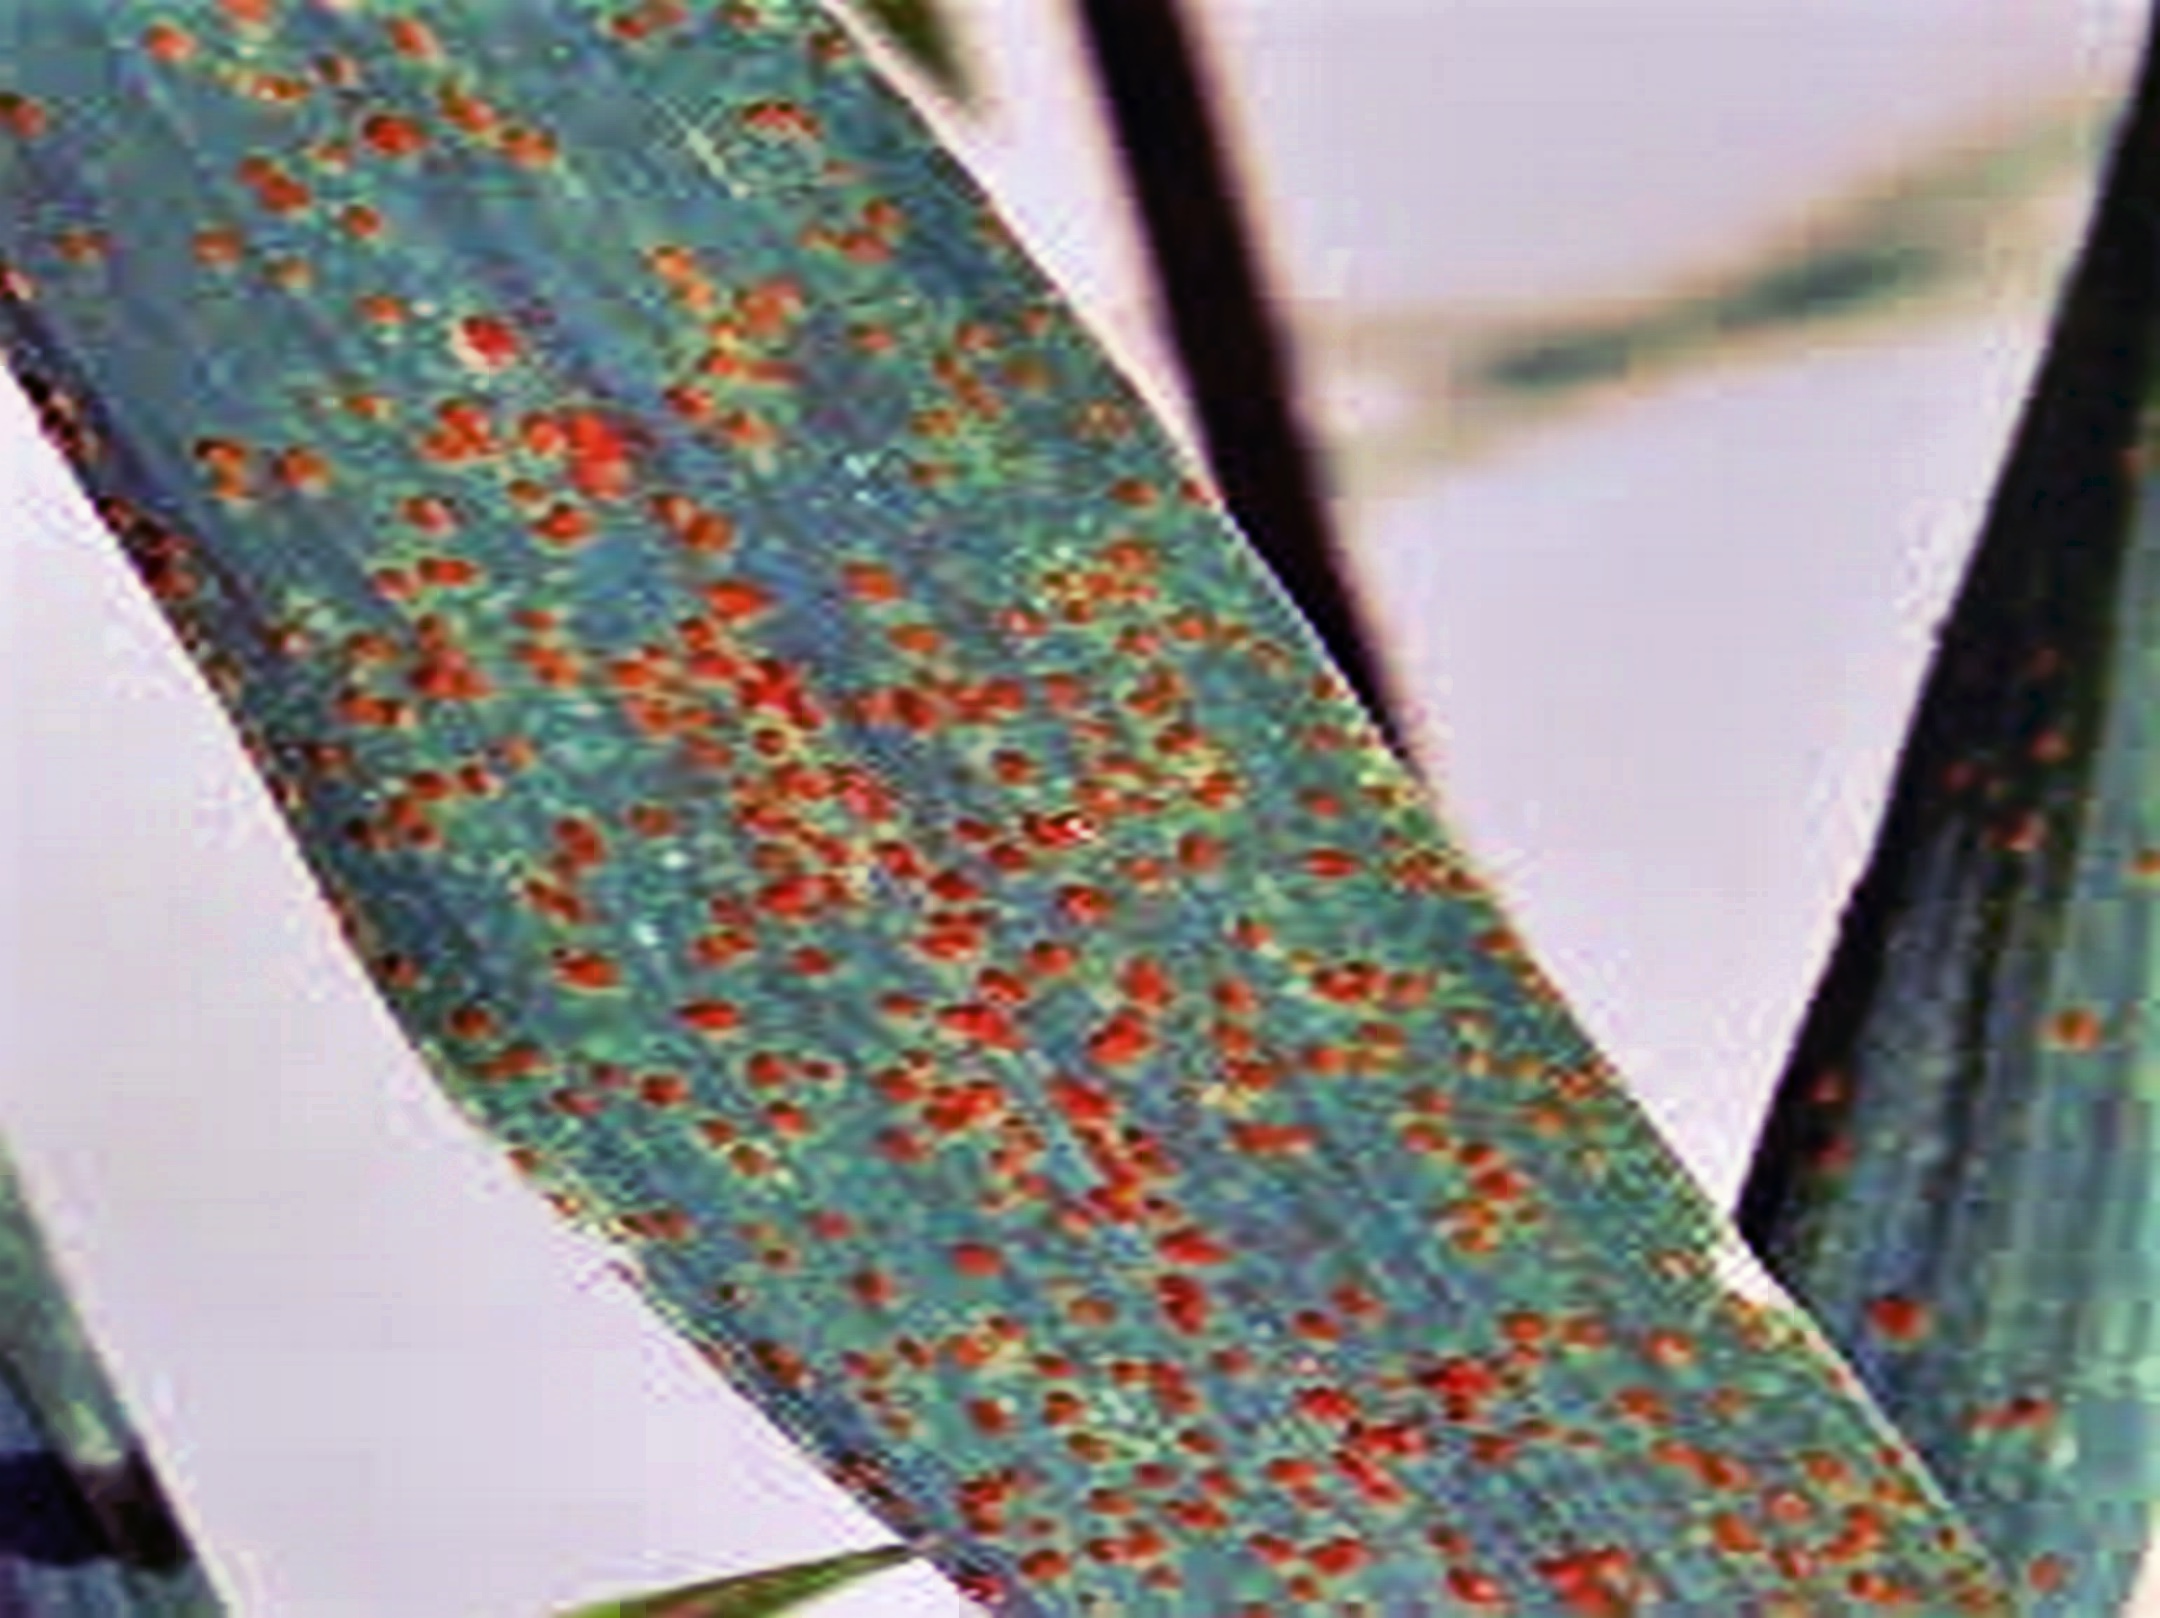Leaf Rust: (325, 284, 1754, 1593)
